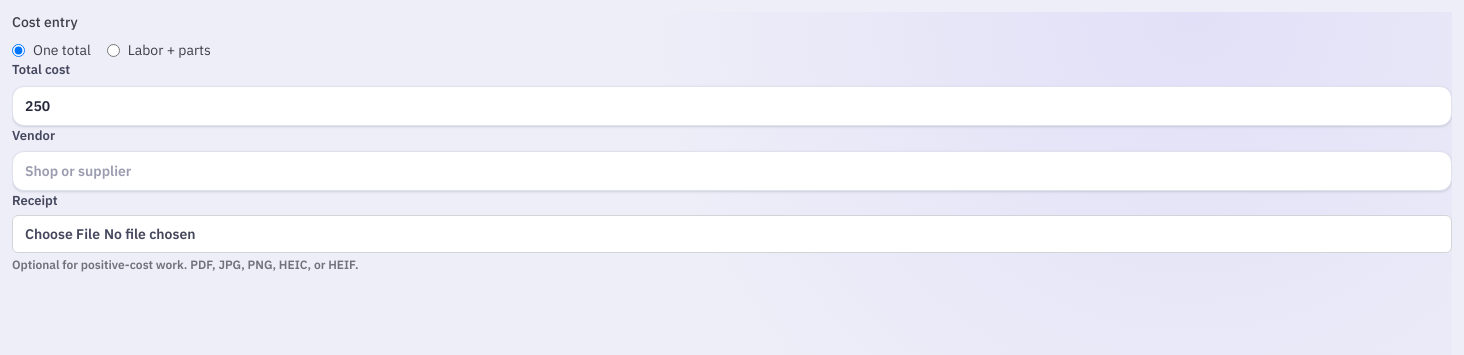
Test: MaintenanceCostFields › switches cleanly between one total and labor plus parts
Expected: the number field labelled "Total cost" holds "250", [12, 86, 1452, 126]
Click the radio button labelled "Labor + parts" at {"x": 113, "y": 50}, box [107, 44, 120, 56]
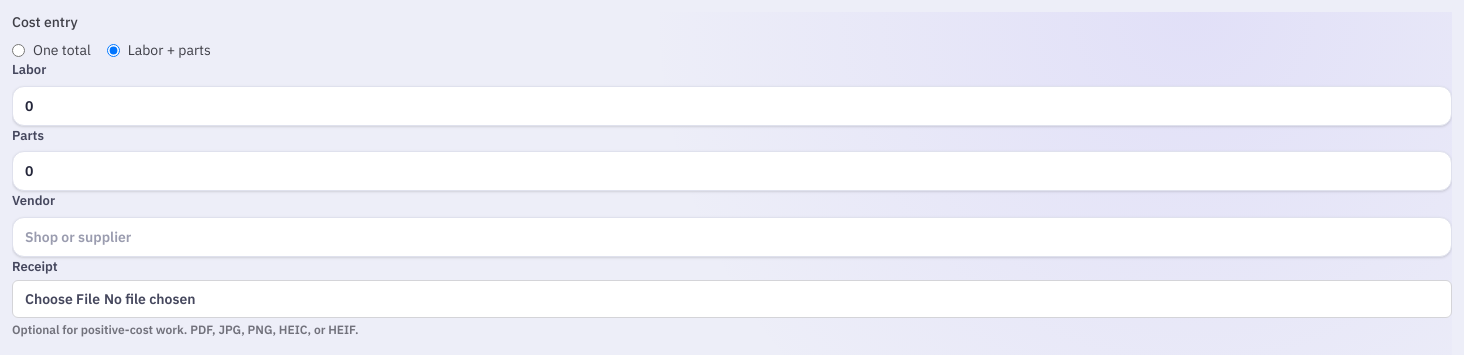
Result: the number field labelled "Labor" is shown at [12, 86, 1452, 126]
Result: the number field labelled "Parts" is shown at [12, 151, 1452, 191]
